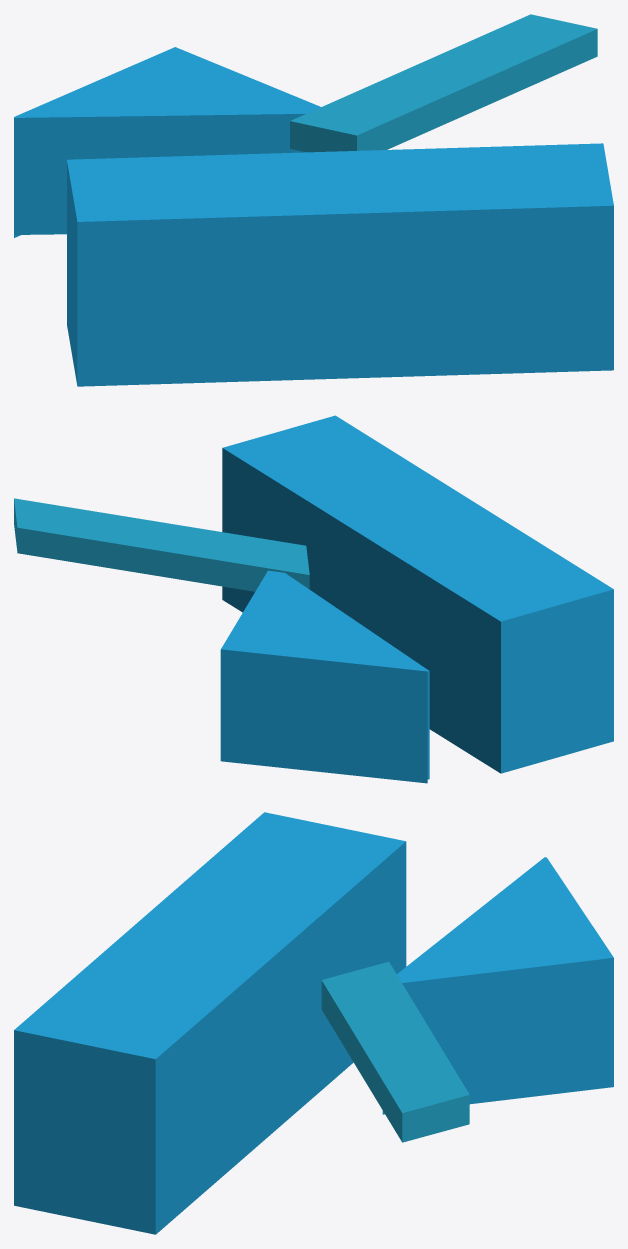
The model's file is Rune2NoStone.fbx.
3 views of the same model, one above another, from view 1: azimuth 30°, elevation 25°; view 2: azimuth 150°, elevation 25°; view 3: azimuth 270°, elevation 25° (orthographic). The views are drawn at different scales.
Parts seen in each view (by area): view 1: Cube.001, Cube, Cube.002; view 2: Cube.001, Cube, Cube.002; view 3: Cube.001, Cube, Cube.002.
Part boxes in pixels (bbox=[...]): Cube.001: bbox=[67, 143, 613, 386]; Cube: bbox=[14, 47, 320, 237]; Cube.002: bbox=[290, 14, 597, 152]; Cube.001: bbox=[222, 415, 613, 773]; Cube: bbox=[220, 570, 429, 783]; Cube.002: bbox=[14, 498, 309, 591]; Cube.001: bbox=[14, 812, 406, 1234]; Cube: bbox=[382, 857, 613, 1114]; Cube.002: bbox=[321, 961, 469, 1142].
Size of the model in its own units: 180 by 49.33 by 150.
